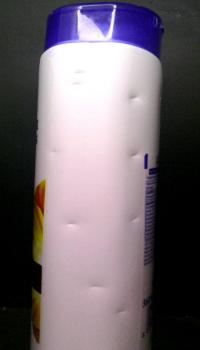dent_marginal: (123, 206, 145, 226), (108, 308, 132, 320), (123, 92, 145, 105), (126, 148, 145, 162), (86, 282, 107, 294), (62, 220, 84, 231), (49, 147, 68, 157), (67, 80, 85, 90), (72, 68, 89, 78)
